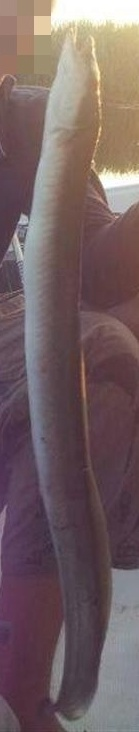Anguilla anguilla: (20, 20, 119, 724)
